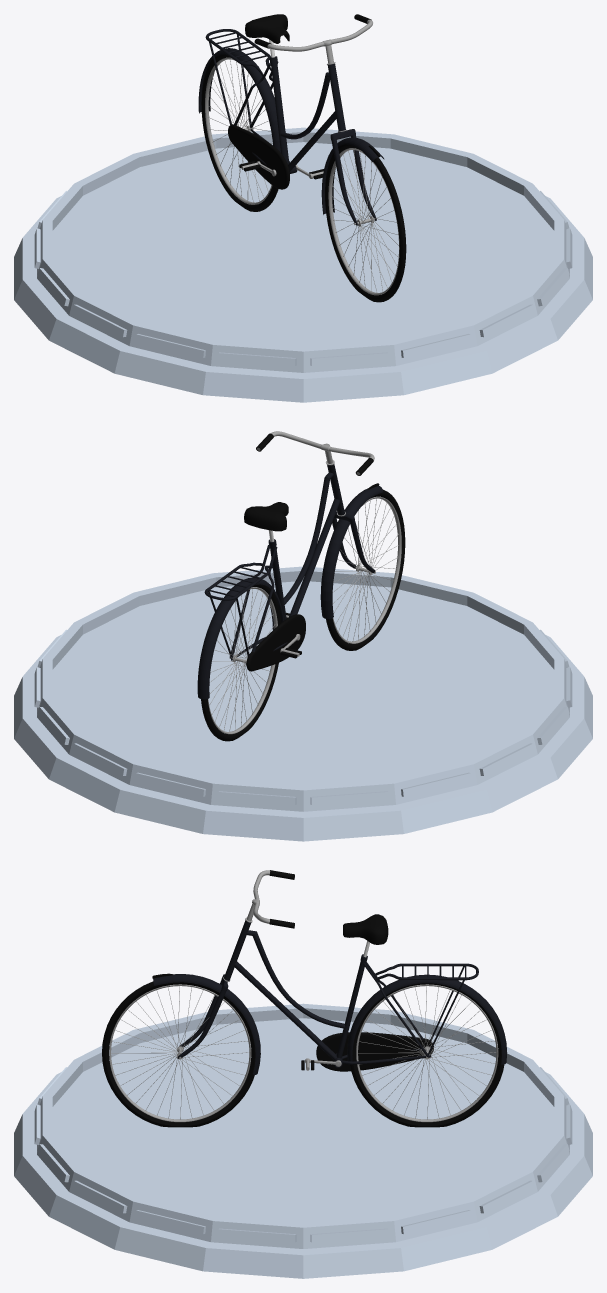
Rendered from Bicycle 3.FBX.
The picture shows the model from 3 angles, top to bottom: view 1: azimuth 30°, elevation 25°; view 2: azimuth 150°, elevation 25°; view 3: azimuth 270°, elevation 25°; orthographic projection.
Parts seen in each view (by area): view 1: platform003, objChamferCyl03, objLine10, objCircle08, objChamferCyl02, objChamferBox02, objLine11, objCircle02, objCircle05, objLine08, objBox01, objCircle06 (+1 smaller); view 2: platform003, objLine10, objChamferCyl03, objChamferCyl02, objLine11, objCircle02, objCircle06, objChamferBox02, objCircle08, objCircle05, objBox01, objLine08 (+1 smaller); view 3: platform003, objChamferCyl03, objChamferCyl02, objLine10, objCircle08, objChamferBox02, objCircle05, objCircle02, objLine11, objCircle06, objBox01, objLine08.
Part boxes in pixels (<box>): platform003: <box>14,127,592,402</box>; objChamferCyl03: <box>328,148,399,295</box>; objLine10: <box>250,56,345,173</box>; objCircle08: <box>325,144,406,302</box>; objChamferCyl02: <box>205,57,272,204</box>; objChamferBox02: <box>228,124,289,189</box>; objLine11: <box>205,29,278,127</box>; objCircle02: <box>198,48,280,152</box>; objCircle05: <box>201,55,278,211</box>; objLine08: <box>330,129,376,225</box>; objBox01: <box>245,14,289,43</box>; objCircle06: <box>321,137,384,214</box>; platform003: <box>14,566,592,841</box>; objLine10: <box>231,464,344,660</box>; objChamferCyl03: <box>332,496,401,643</box>; objChamferCyl02: <box>208,587,277,734</box>; objLine11: <box>204,545,277,658</box>; objCircle02: <box>197,577,283,699</box>; objCircle06: <box>320,486,383,618</box>; objChamferBox02: <box>246,614,305,671</box>; objCircle08: <box>326,489,405,650</box>; objCircle05: <box>201,584,281,741</box>; objBox01: <box>244,502,288,531</box>; objLine08: <box>332,511,375,573</box>; platform003: <box>14,1003,592,1278</box>; objChamferCyl03: <box>109,984,251,1122</box>; objChamferCyl02: <box>356,984,498,1122</box>; objLine10: <box>224,920,430,1067</box>; objCircle08: <box>102,981,255,1127</box>; objChamferBox02: <box>316,1032,433,1071</box>; objCircle05: <box>350,983,504,1127</box>; objCircle02: <box>347,974,507,1064</box>; objLine11: <box>363,962,478,1057</box>; objCircle06: <box>153,974,260,1074</box>; objBox01: <box>343,914,388,944</box>; objLine08: <box>177,974,228,1058</box>.
Size of the model in its own units: 395 by 192 by 389.
